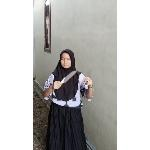Pisau: (58, 70, 80, 86)
